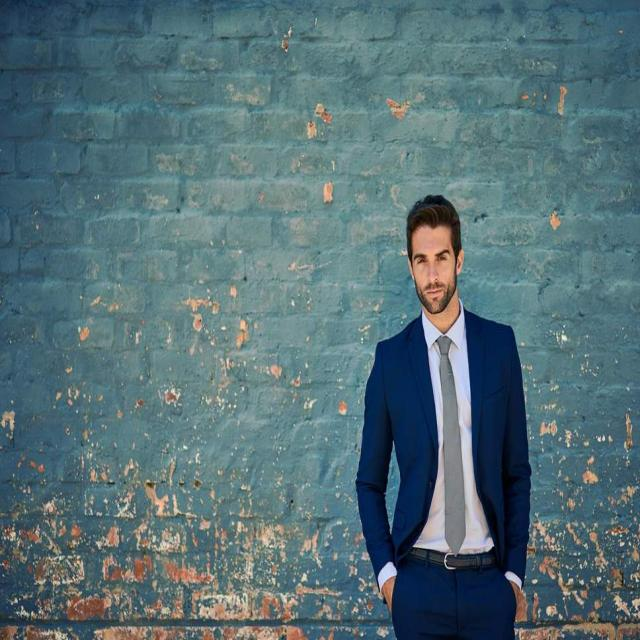human: (354, 189, 540, 640)
